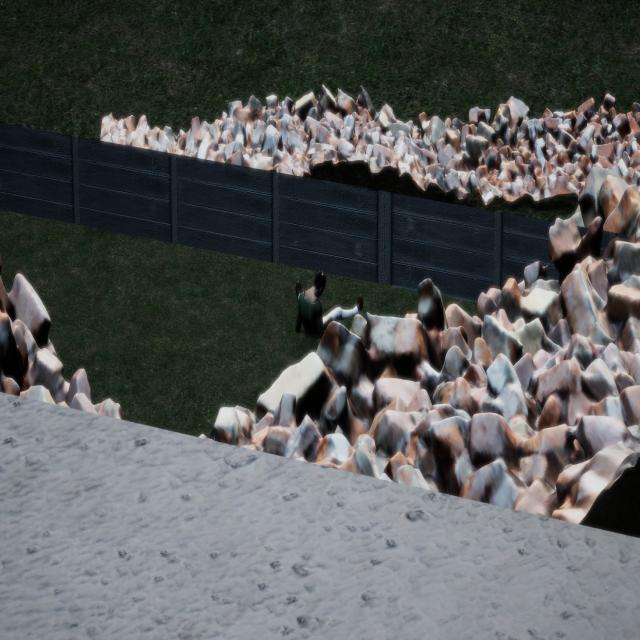Human: (286, 249, 366, 340)
